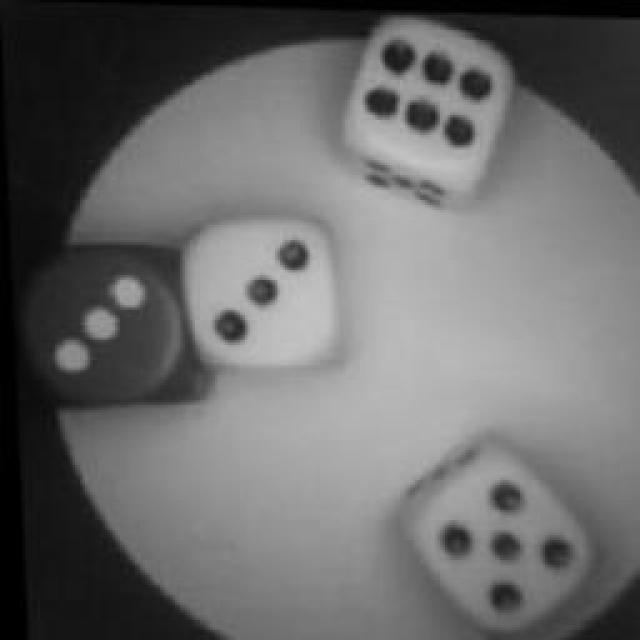dice_3: (15, 236, 203, 419), (175, 212, 350, 376)
dice_5: (410, 440, 600, 640)
dice_6: (347, 10, 515, 192)
